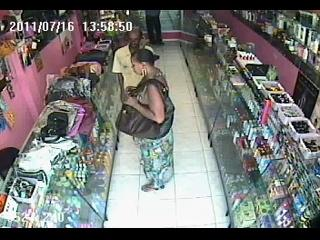Normal: (118, 47, 175, 192), (116, 83, 176, 140), (112, 26, 146, 97), (144, 10, 164, 45), (76, 50, 109, 65)
